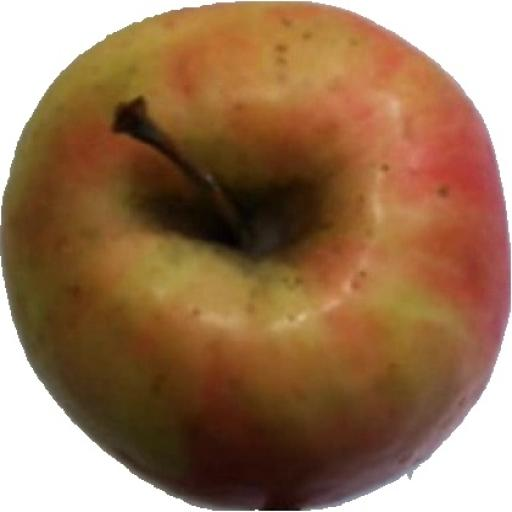apple-ripe: (0, 0, 502, 502)
